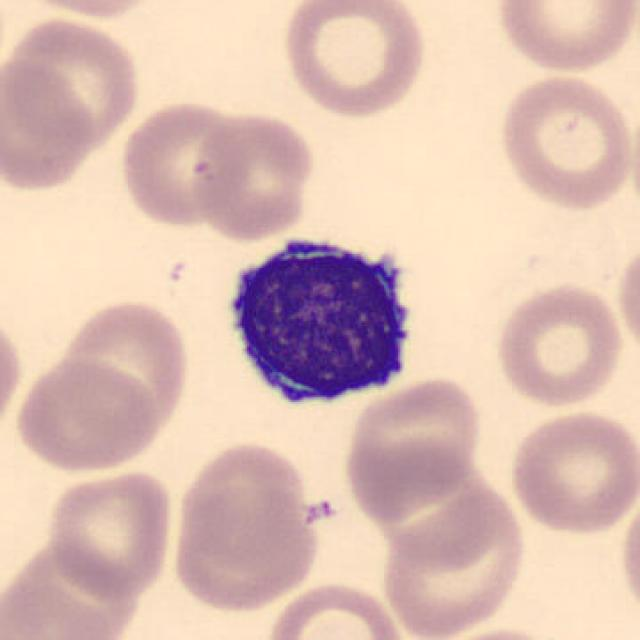Lymphocyte: (214, 220, 428, 418)
RBC: (169, 436, 323, 616), (378, 490, 530, 640), (53, 294, 194, 452), (340, 372, 486, 520), (494, 70, 635, 214), (4, 14, 146, 153), (10, 356, 162, 476), (278, 0, 430, 120), (490, 278, 626, 411), (42, 468, 178, 600), (117, 97, 249, 231), (505, 406, 638, 538), (188, 108, 318, 242), (0, 540, 136, 640), (0, 55, 96, 194), (491, 0, 638, 76), (263, 578, 409, 640), (615, 485, 640, 622), (0, 307, 25, 441), (613, 236, 640, 358), (5, 0, 168, 19), (430, 624, 564, 640)
